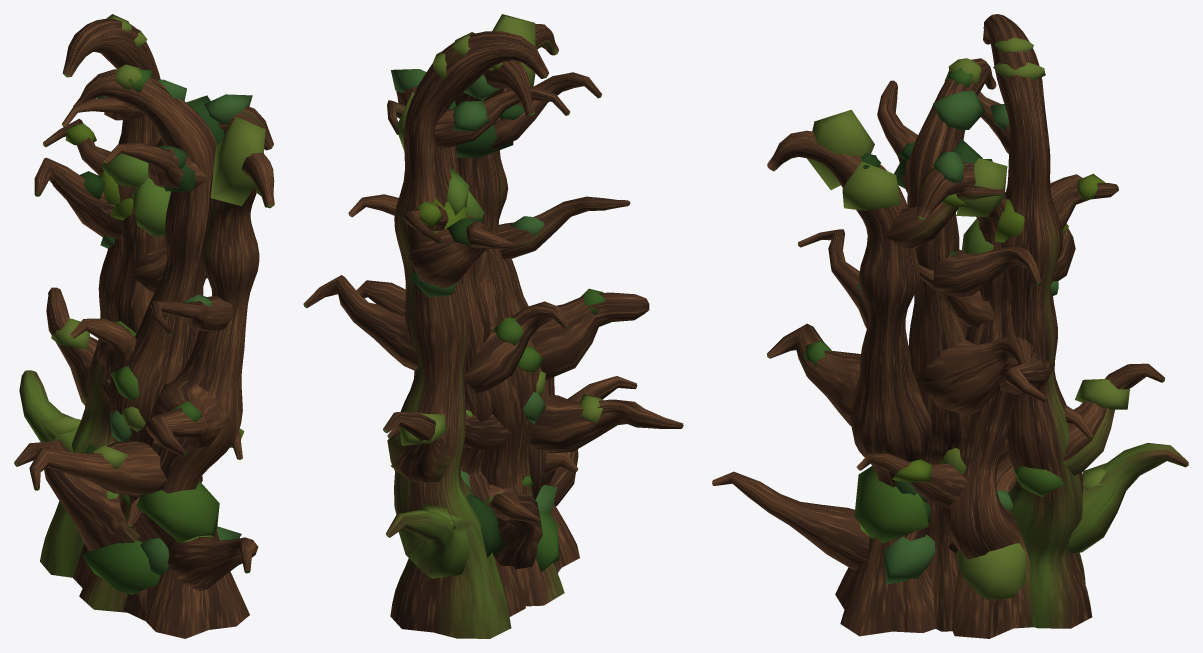
Rendered from grip_roots.glb.
3 renders of one model, left to right at view 1: azimuth 30°, elevation 25°; view 2: azimuth 150°, elevation 25°; view 3: azimuth 270°, elevation 25°, orthographic. The views are drawn at different scales.
Visible parts, largest first — view 1: grip_root_3, grip_root_2, grip_root_0, grip_root_1; view 2: grip_root_0, grip_root_2, grip_root_3, grip_root_1; view 3: grip_root_3, grip_root_0, grip_root_1, grip_root_2.
Part boxes in pixels (left/top/right/bottom): grip_root_3: left=29, top=116, right=274, bottom=638; grip_root_2: left=14, top=64, right=216, bottom=620; grip_root_0: left=19, top=14, right=207, bottom=577; grip_root_1: left=43, top=94, right=273, bottom=587; grip_root_0: left=303, top=31, right=569, bottom=638; grip_root_2: left=348, top=60, right=602, bottom=606; grip_root_3: left=387, top=14, right=683, bottom=572; grip_root_1: left=391, top=69, right=578, bottom=616; grip_root_3: left=712, top=109, right=1004, bottom=636; grip_root_0: left=977, top=14, right=1188, bottom=628; grip_root_1: left=856, top=139, right=1118, bottom=638; grip_root_2: left=877, top=58, right=1093, bottom=631.
Size of the model in its own units: 7.08 by 13.1 by 9.84.
Materials: 2 (2 with a texture image).
